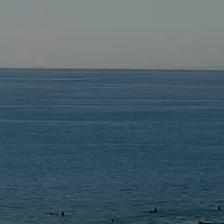surfer: (152, 208, 159, 214), (217, 205, 222, 210), (48, 212, 55, 215), (198, 221, 208, 223), (61, 211, 65, 216)
